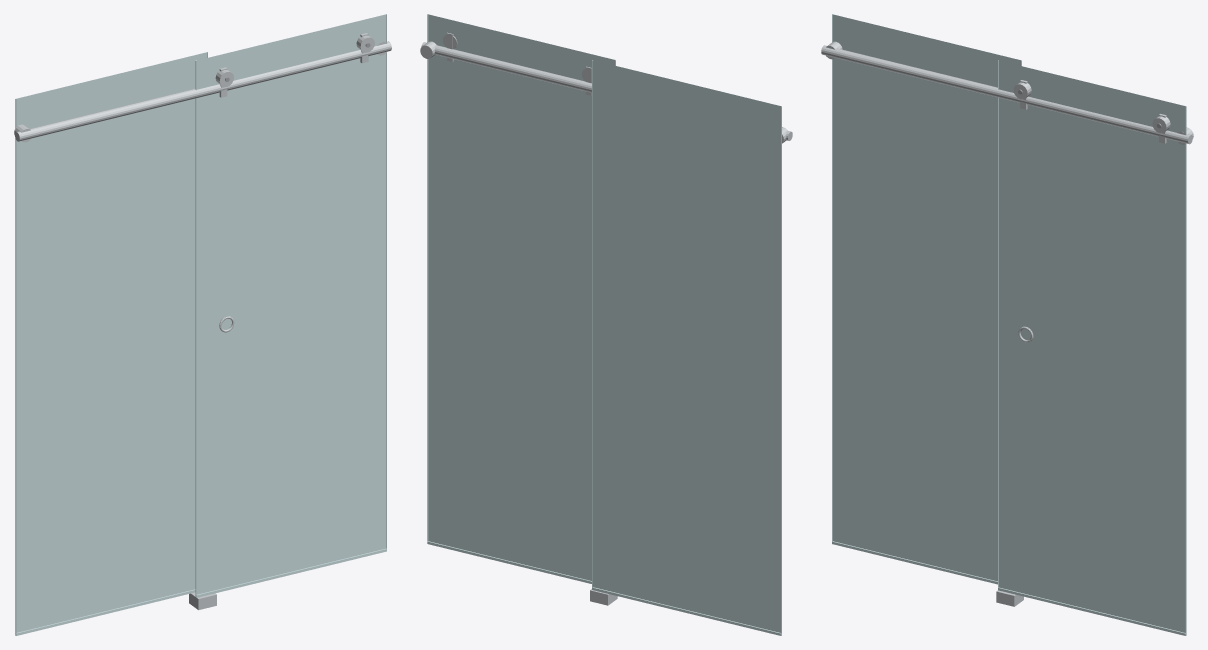
File: frameless-clear-roller-sliding-shower-enclosure-03.glb
The picture shows the model from 3 angles, left to right: view 1: azimuth 30°, elevation 25°; view 2: azimuth 150°, elevation 25°; view 3: azimuth 330°, elevation 25°; orthographic projection.
Visible parts, largest first — view 1: Sliding right pane, Fixed left pane, Top sliding rail, Sliding right pane glass edges, Fixed left pane glass edges, Sliding right pane lower seal, Fixed left pane lower seal; view 2: Fixed left pane, Sliding right pane, Top sliding rail, Fixed left pane glass edges, Sliding right pane glass edges, Fixed left pane lower seal, Sliding right pane lower seal; view 3: Sliding right pane, Fixed left pane, Top sliding rail, Sliding right pane glass edges, Sliding right pane lower seal, Fixed left pane lower seal, Fixed left pane glass edges.
Part boxes in pixels (x1,y1,x2,y2): Sliding right pane: (196,14,385,594); Fixed left pane: (16,52,206,632); Top sliding rail: (15,41,391,141); Sliding right pane glass edges: (195,14,386,597); Fixed left pane glass edges: (15,52,207,635); Sliding right pane lower seal: (196,548,386,597); Fixed left pane lower seal: (16,589,195,635); Fixed left pane: (593,60,780,632); Sliding right pane: (428,14,614,580); Top sliding rail: (421,42,792,140); Fixed left pane glass edges: (592,60,781,635); Sliding right pane glass edges: (427,14,615,541); Fixed left pane lower seal: (592,587,781,635); Sliding right pane lower seal: (427,541,591,583); Sliding right pane: (999,60,1185,632); Fixed left pane: (833,14,1020,581); Top sliding rail: (821,45,1192,144); Sliding right pane glass edges: (998,60,1186,635); Sliding right pane lower seal: (998,587,1185,635); Fixed left pane lower seal: (832,541,997,584); Fixed left pane glass edges: (832,14,1021,541).
Size of the model in its own units: 1.4 by 1.97 by 0.08.
